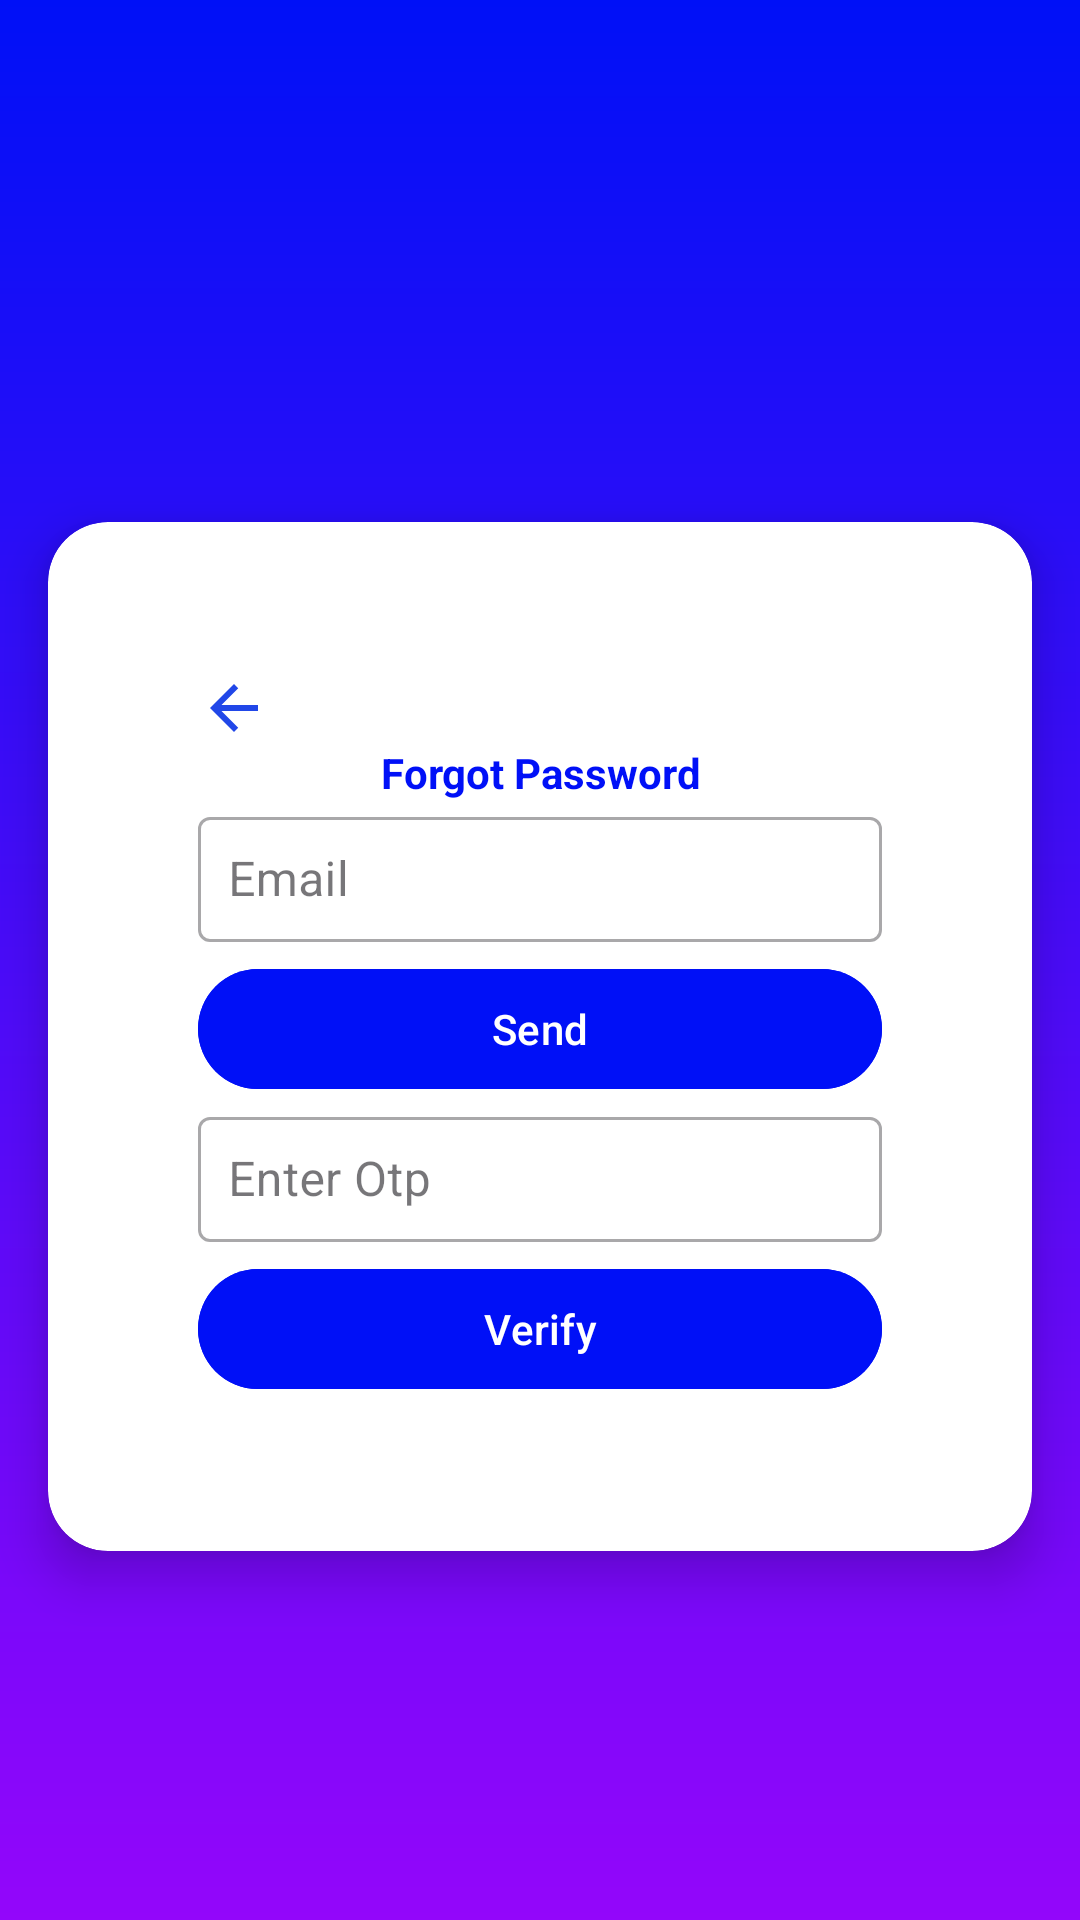

Screen size 1080×1920. Icon name, then its center in pixels as [x,y]:
backtologin: [234,708]
